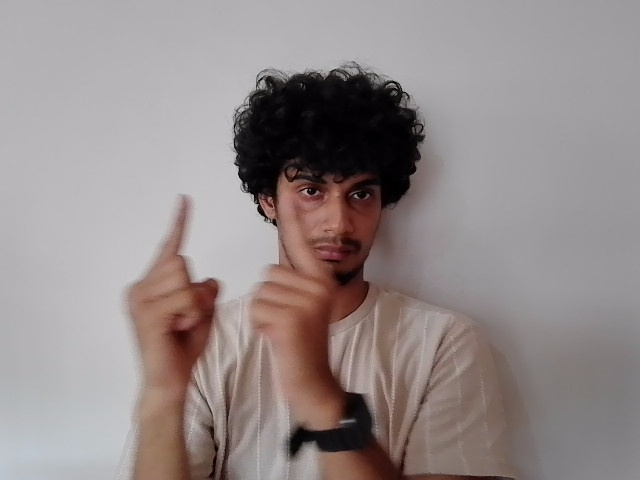play: (121, 190, 336, 383)
